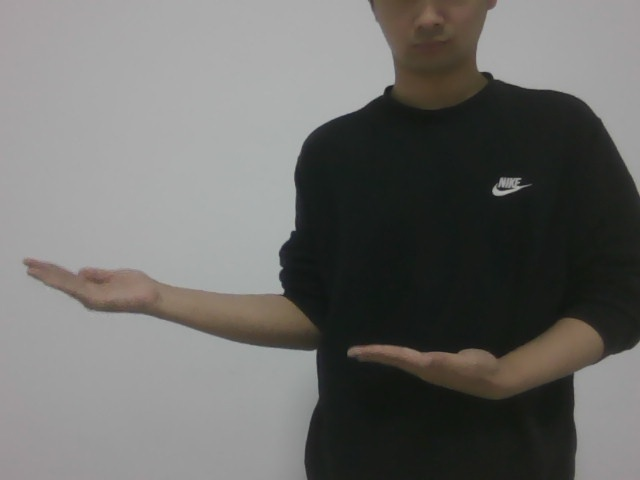please: (12, 243, 505, 416)
